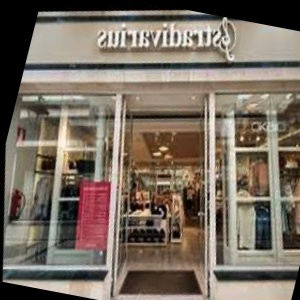stradivarius: (221, 16, 274, 29)
